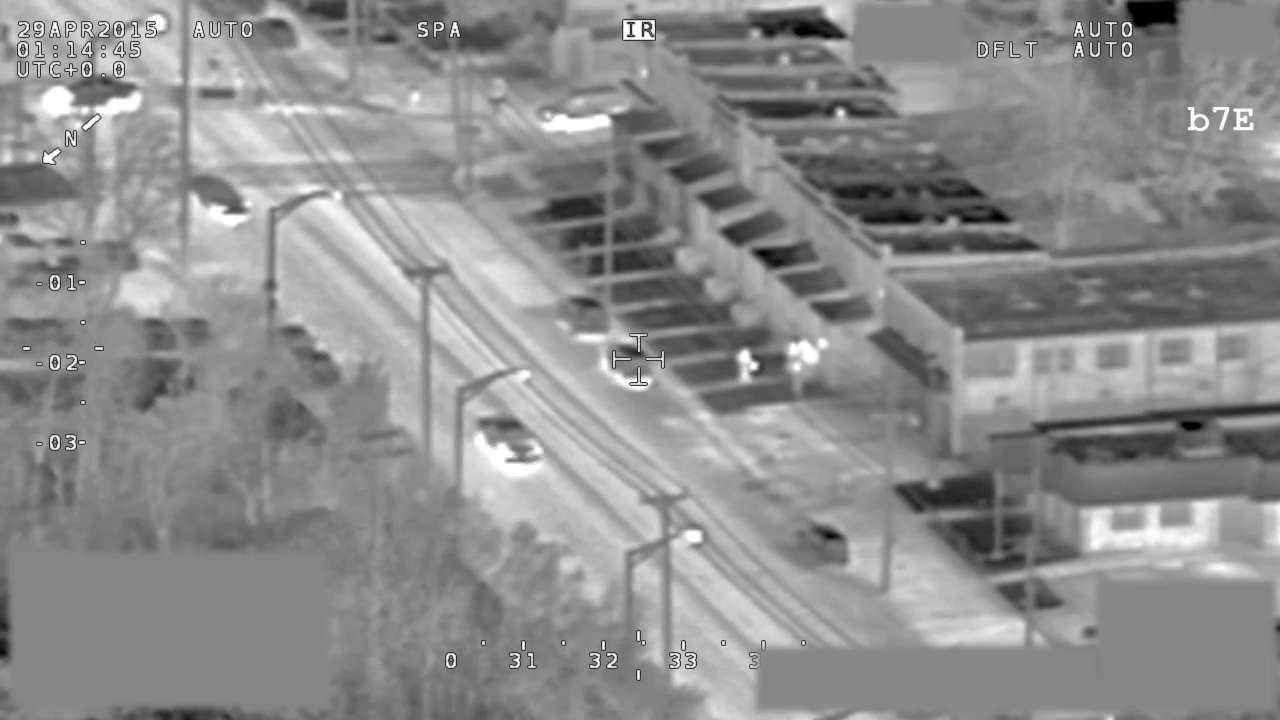vehicle: (470, 415, 548, 480), (531, 87, 632, 134), (42, 74, 143, 116), (180, 171, 254, 228), (599, 336, 655, 396), (553, 291, 613, 346), (793, 519, 851, 572), (254, 15, 299, 55)
